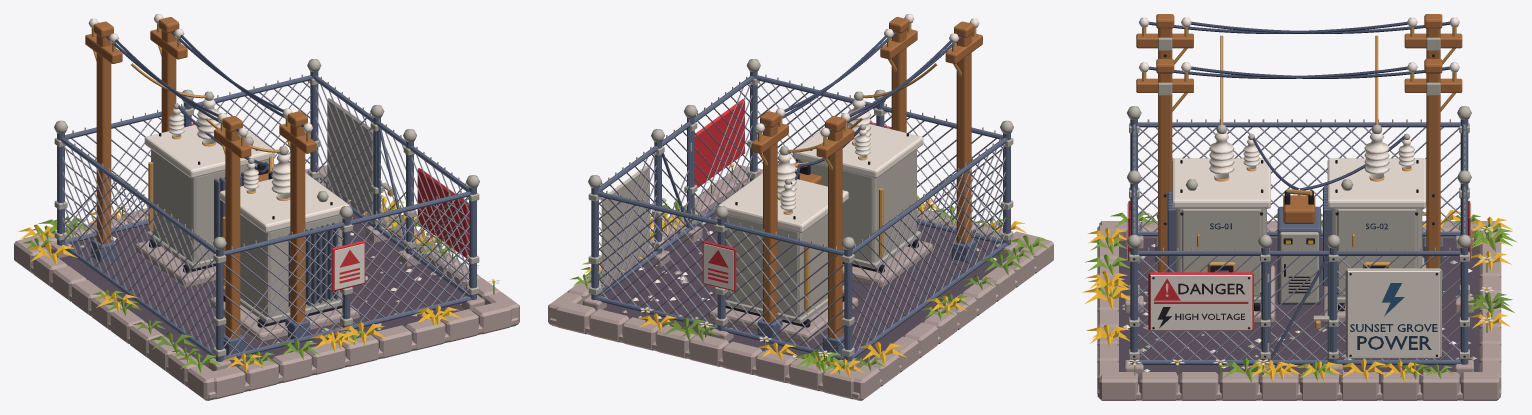
The model's file is bld.power-substation.glb.
The picture shows the model from 3 angles, left to right: view 1: azimuth 30°, elevation 25°; view 2: azimuth 150°, elevation 25°; view 3: azimuth 270°, elevation 25°; orthographic projection. The views are drawn at different scales.
Bounding box in the file's own units: 6.67 × 4.54 × 7.02.
